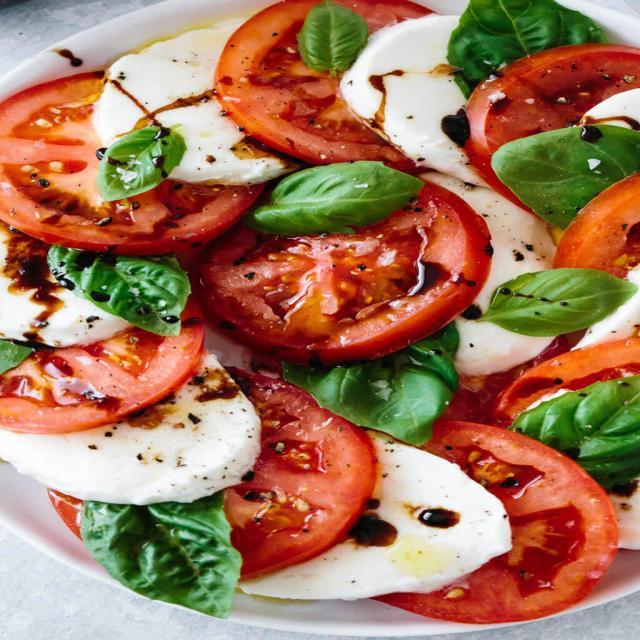Tomato: (208, 178, 484, 362), (410, 422, 617, 632), (2, 82, 238, 258), (198, 2, 400, 159)
